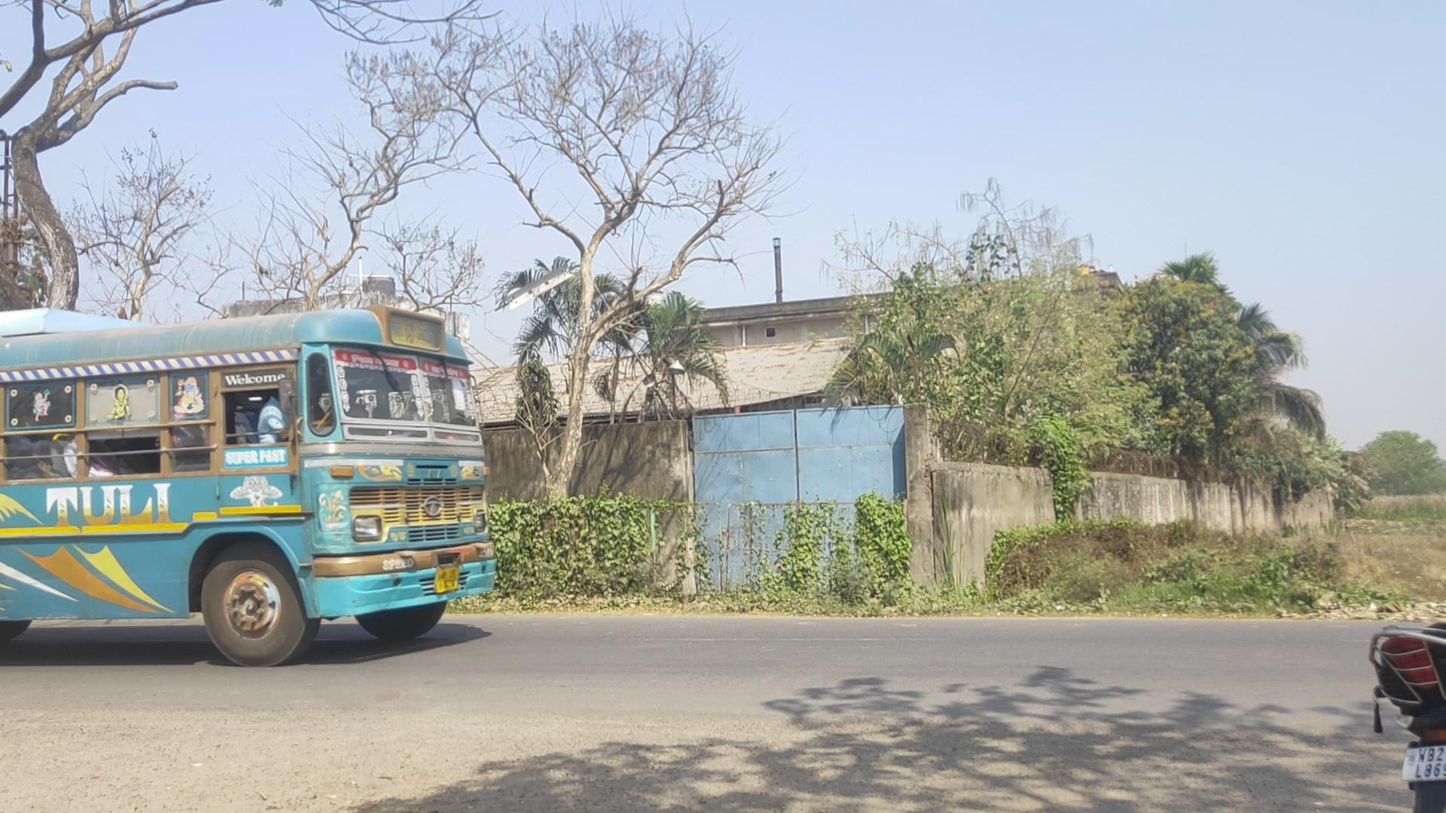Bus: (2, 305, 496, 668)
